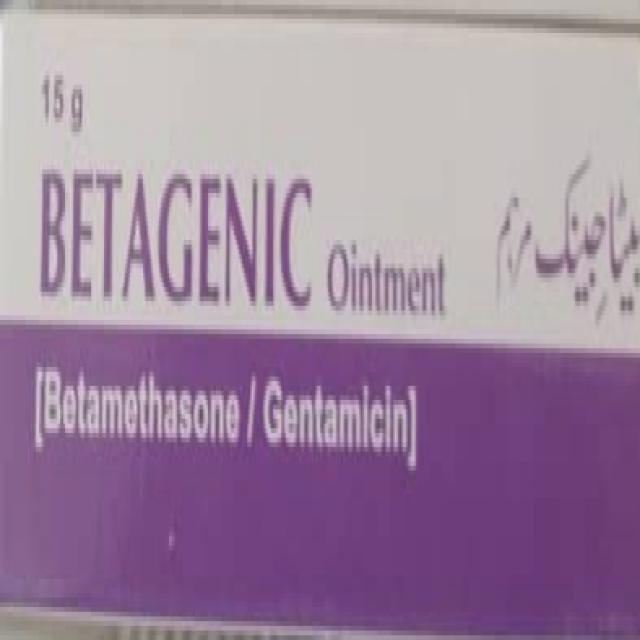drug-name: (37, 166, 318, 310)
